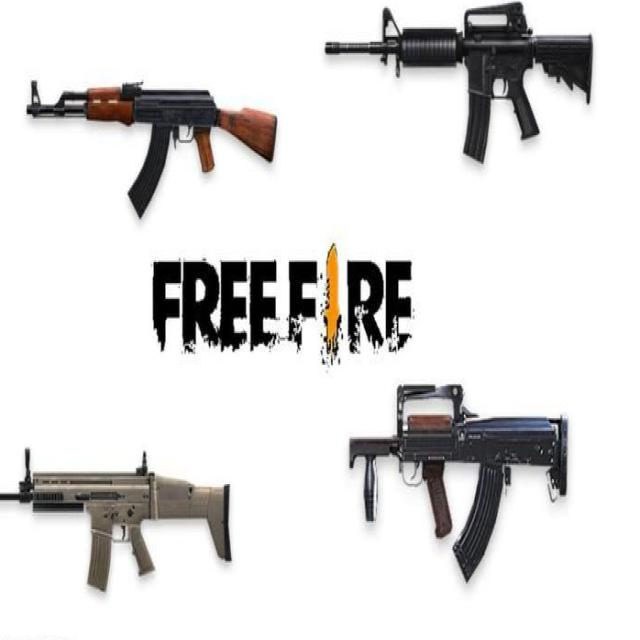Weapon: (349, 384, 568, 579), (326, 2, 591, 161), (27, 82, 276, 215), (0, 449, 230, 590)
